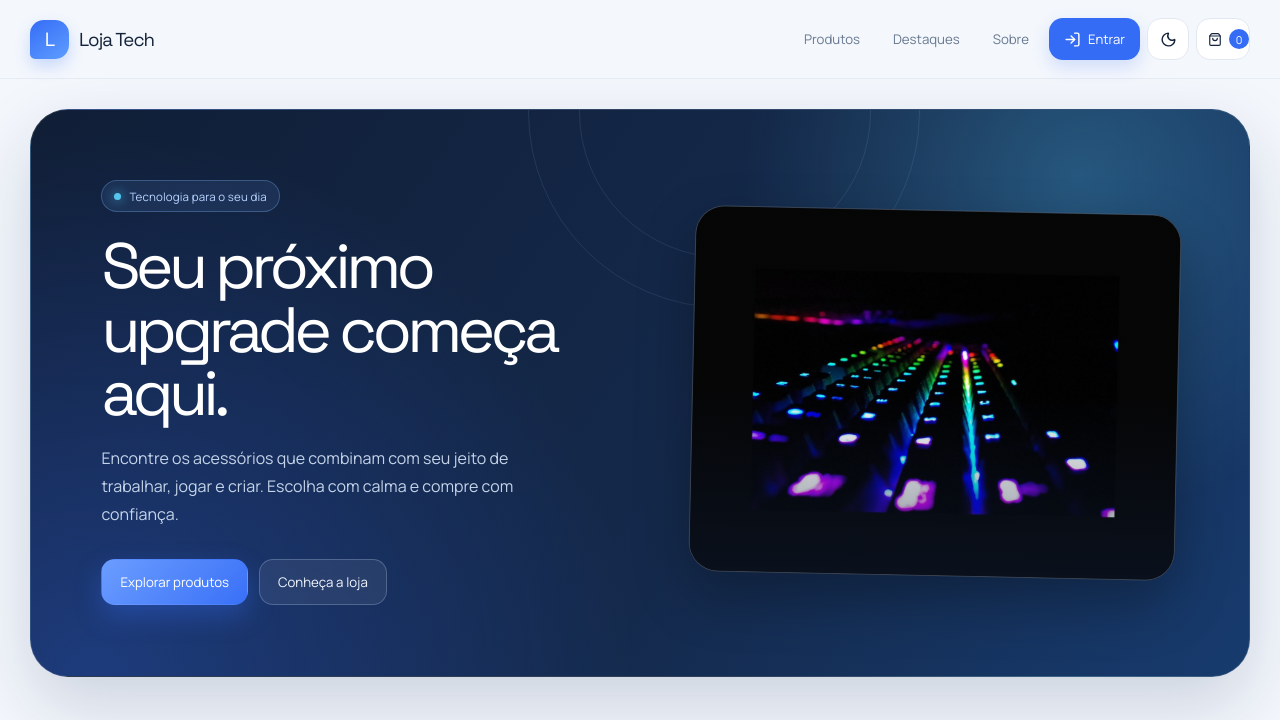
Test case: login com e-mail inexistente › mostra o aviso de credencial inválida como pop-up flutuante
Step 1. Click the button "Entrar" → (1094, 39), box [1049,18,1140,60]
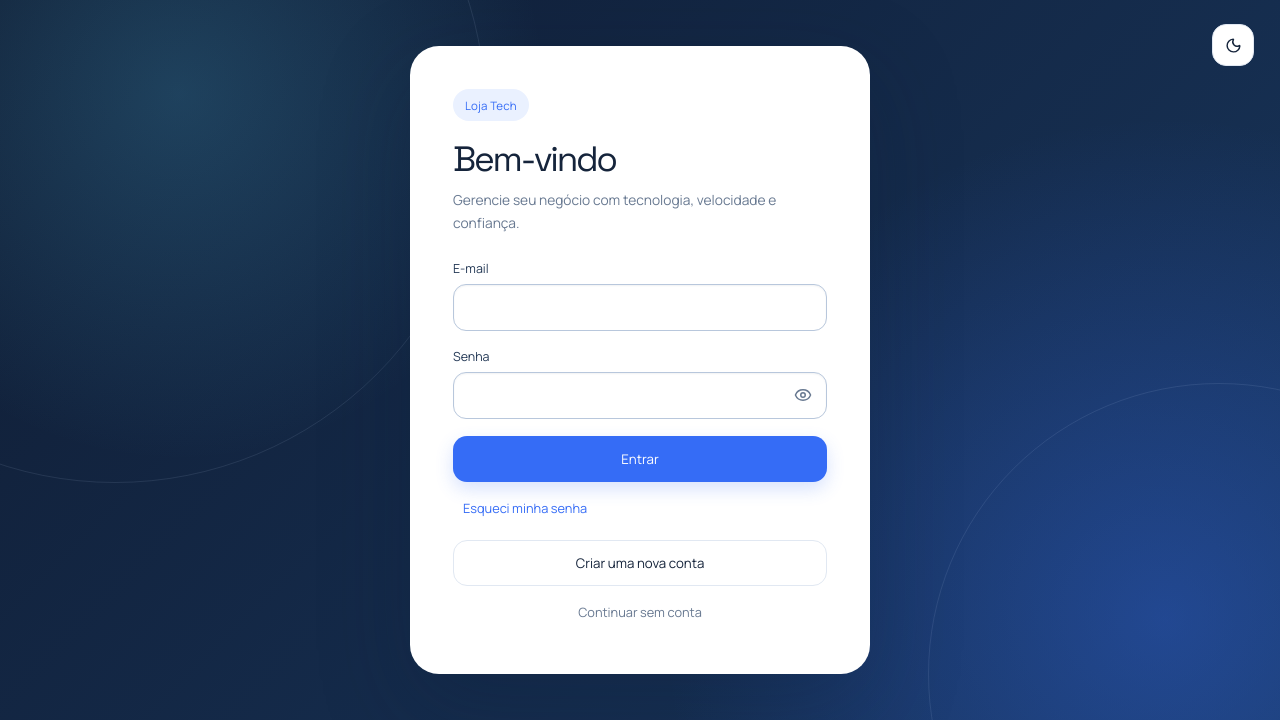
Step 2. Type "ninguem@exemplo.com" into the field labelled "E-mail" → (640, 307), box [453,284,827,331]
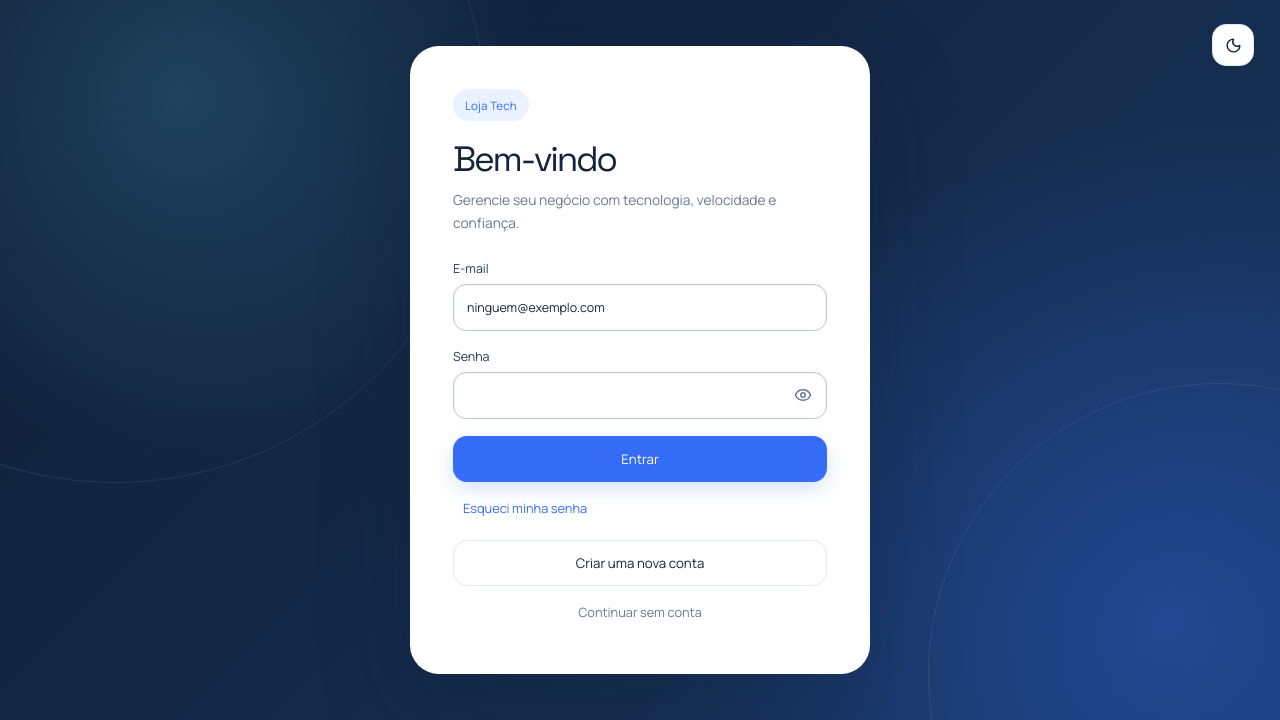
Step 3. Type "senhaErrada1" into the password field labelled "Senha" → (640, 395), box [453,372,827,419]
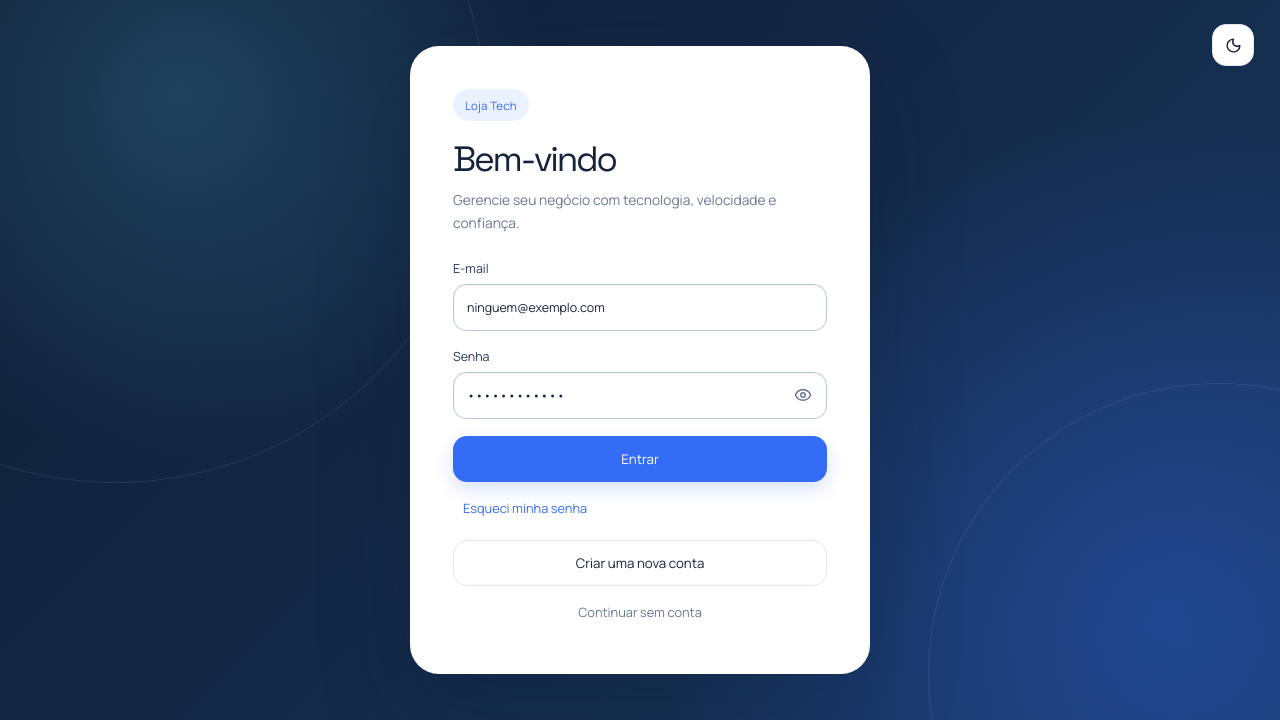
Step 4. Click the button "Entrar" → (640, 459), box [453,436,827,482]
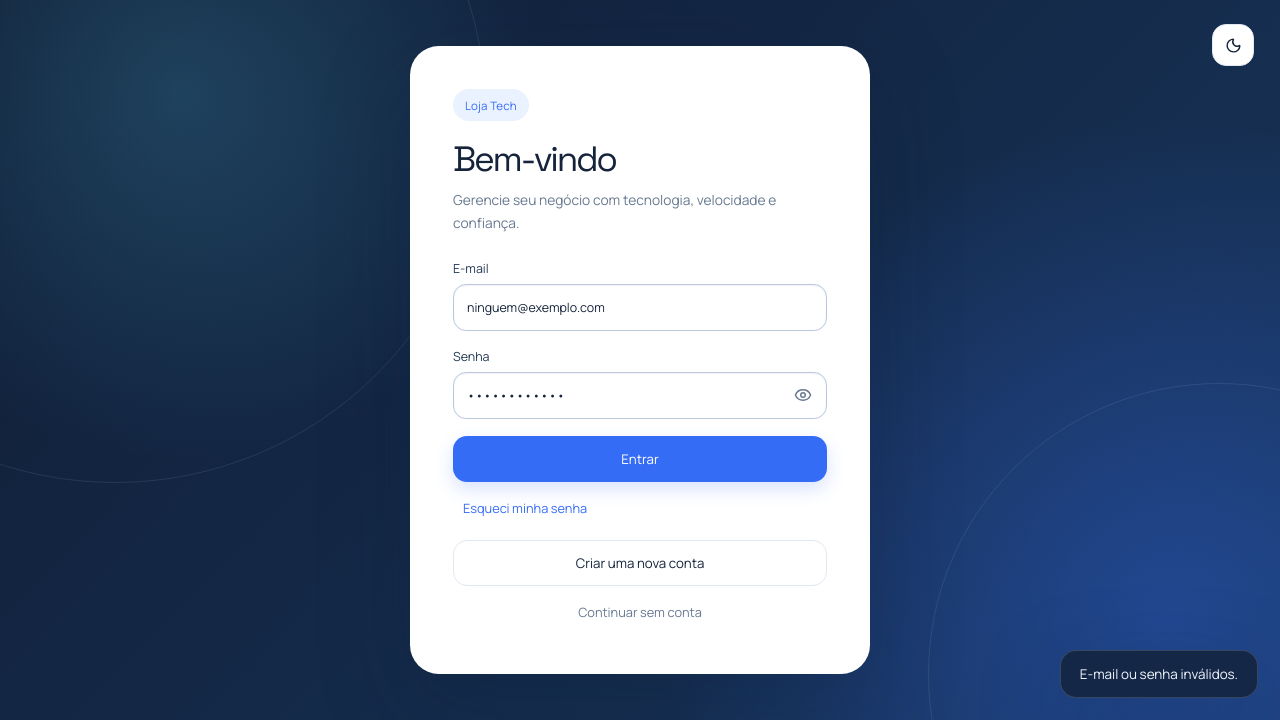
expect the message shows "E-mail ou senha inválidos": met, box [1080,665,1238,683]
